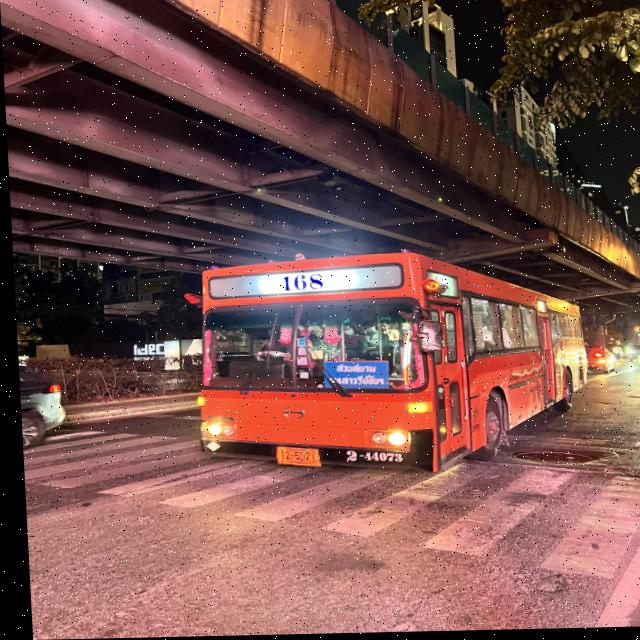BMTA-bus: (193, 254, 585, 476)
Bus Line Number: (272, 272, 328, 297)
Bus Side Number: (338, 446, 402, 468)
Destination Sign: (320, 359, 387, 394)
